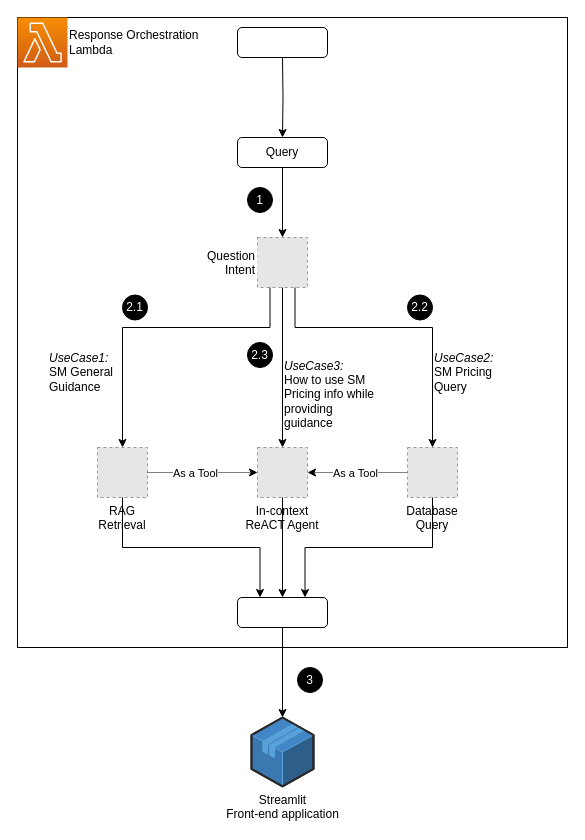
This 585x840 diagram has some shape labels left out. Grey dashed boxes stand in for pictures. Each missing label, with the box of its shape:
Lambda Invokation: (236, 26, 328, 58)
Response: (236, 596, 328, 628)
